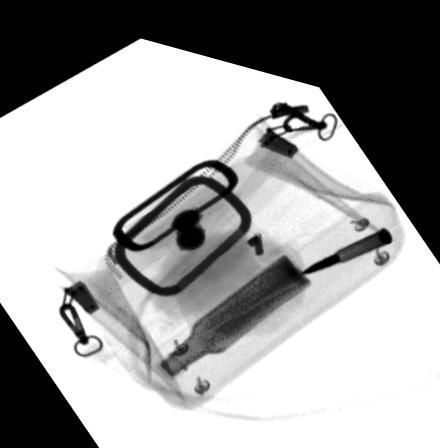Bullet: (297, 205, 392, 258)
